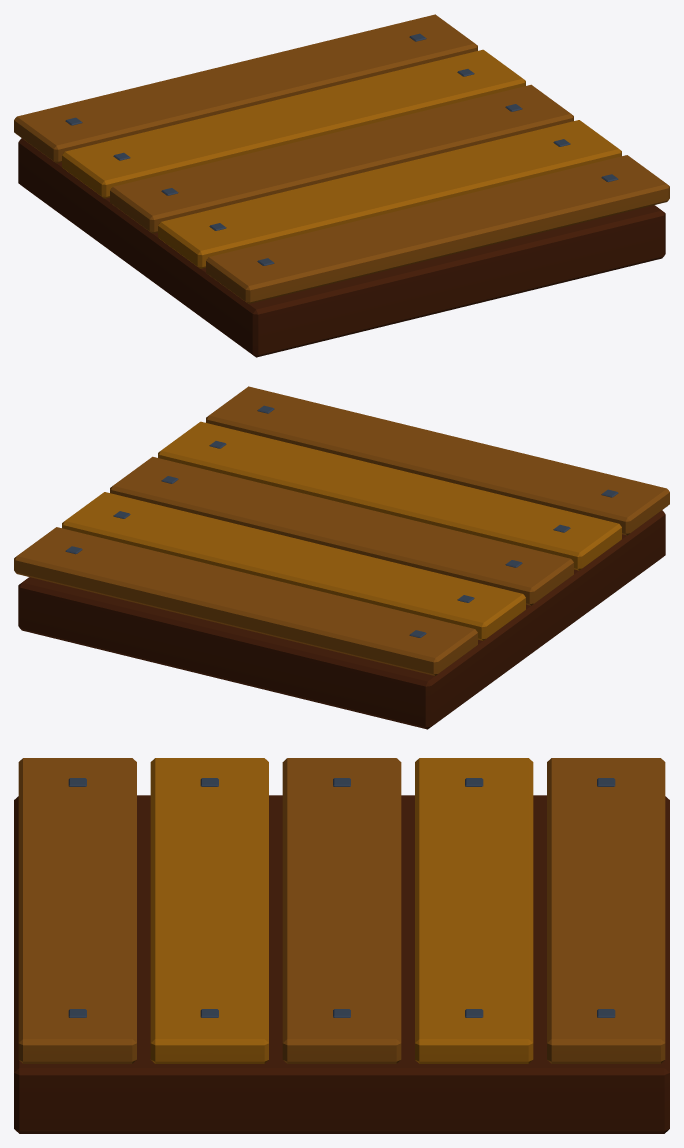
File: wood.glb
The picture shows the model from 3 angles, top to bottom: view 1: azimuth 30°, elevation 25°; view 2: azimuth 150°, elevation 25°; view 3: azimuth 270°, elevation 25°; orthographic projection. The views are drawn at different scales.
Parts seen in each view (by area): view 1: wood; view 2: wood; view 3: wood.
Boxes of the visible parts, x1,y1,x2,y2 form: wood: (14, 14, 669, 357); wood: (14, 386, 669, 729); wood: (14, 758, 669, 1133).
Size of the model in its own units: 1.48 by 0.244 by 1.44.
